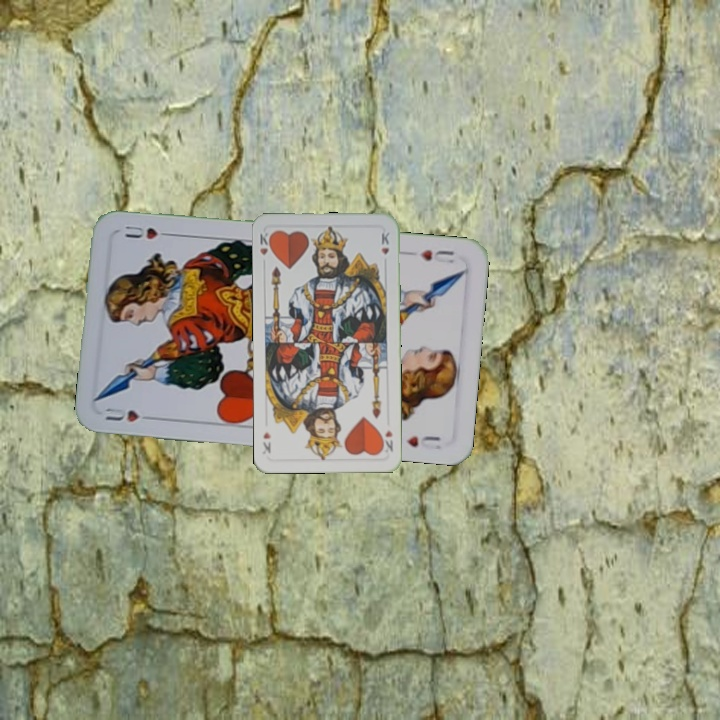HK: (256, 228, 275, 268), (377, 426, 396, 456)
HU: (100, 403, 158, 425), (416, 246, 457, 266)
